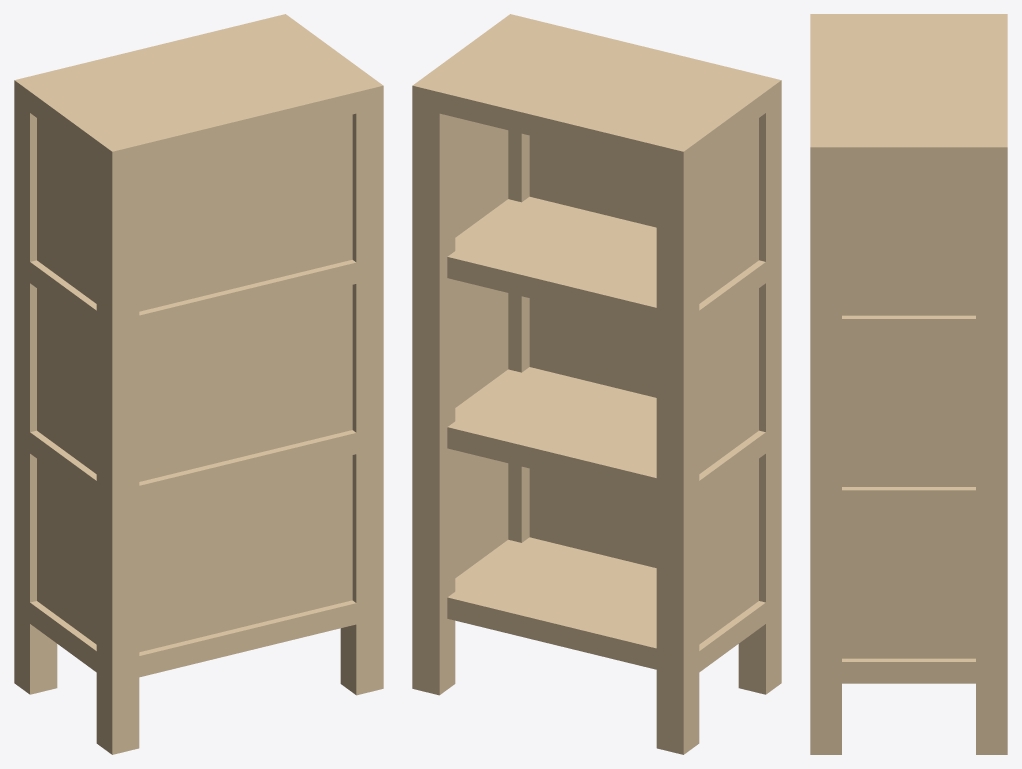
The model's file is bookcaseClosed.glb.
3 renders of one model, left to right at view 1: azimuth 30°, elevation 25°; view 2: azimuth 150°, elevation 25°; view 3: azimuth 270°, elevation 25°, orthographic.
Parts seen in each view (by area): view 1: bookcaseClosed; view 2: bookcaseClosed; view 3: bookcaseClosed.
Boxes of the visible parts, x1,y1,x2,y2 form: bookcaseClosed: (14, 14, 383, 754); bookcaseClosed: (412, 14, 781, 754); bookcaseClosed: (810, 14, 1007, 754).
Bounding box in the file's own units: 4 × 8.5 × 2.5.
